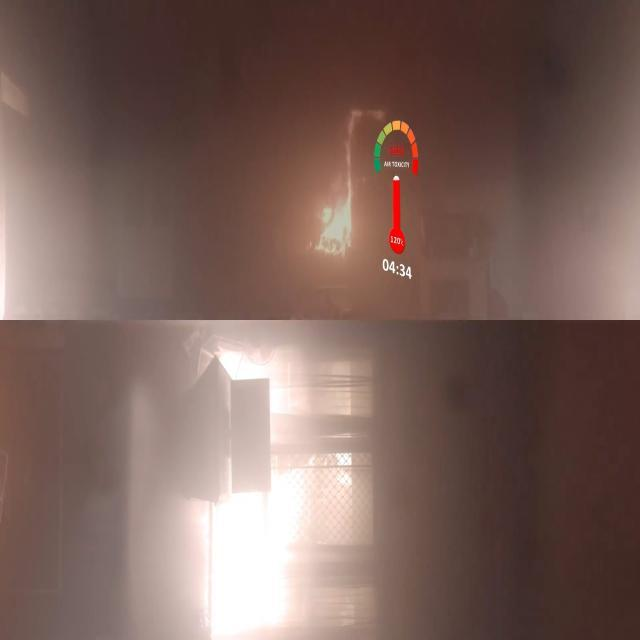Fire: (282, 62, 412, 359)
